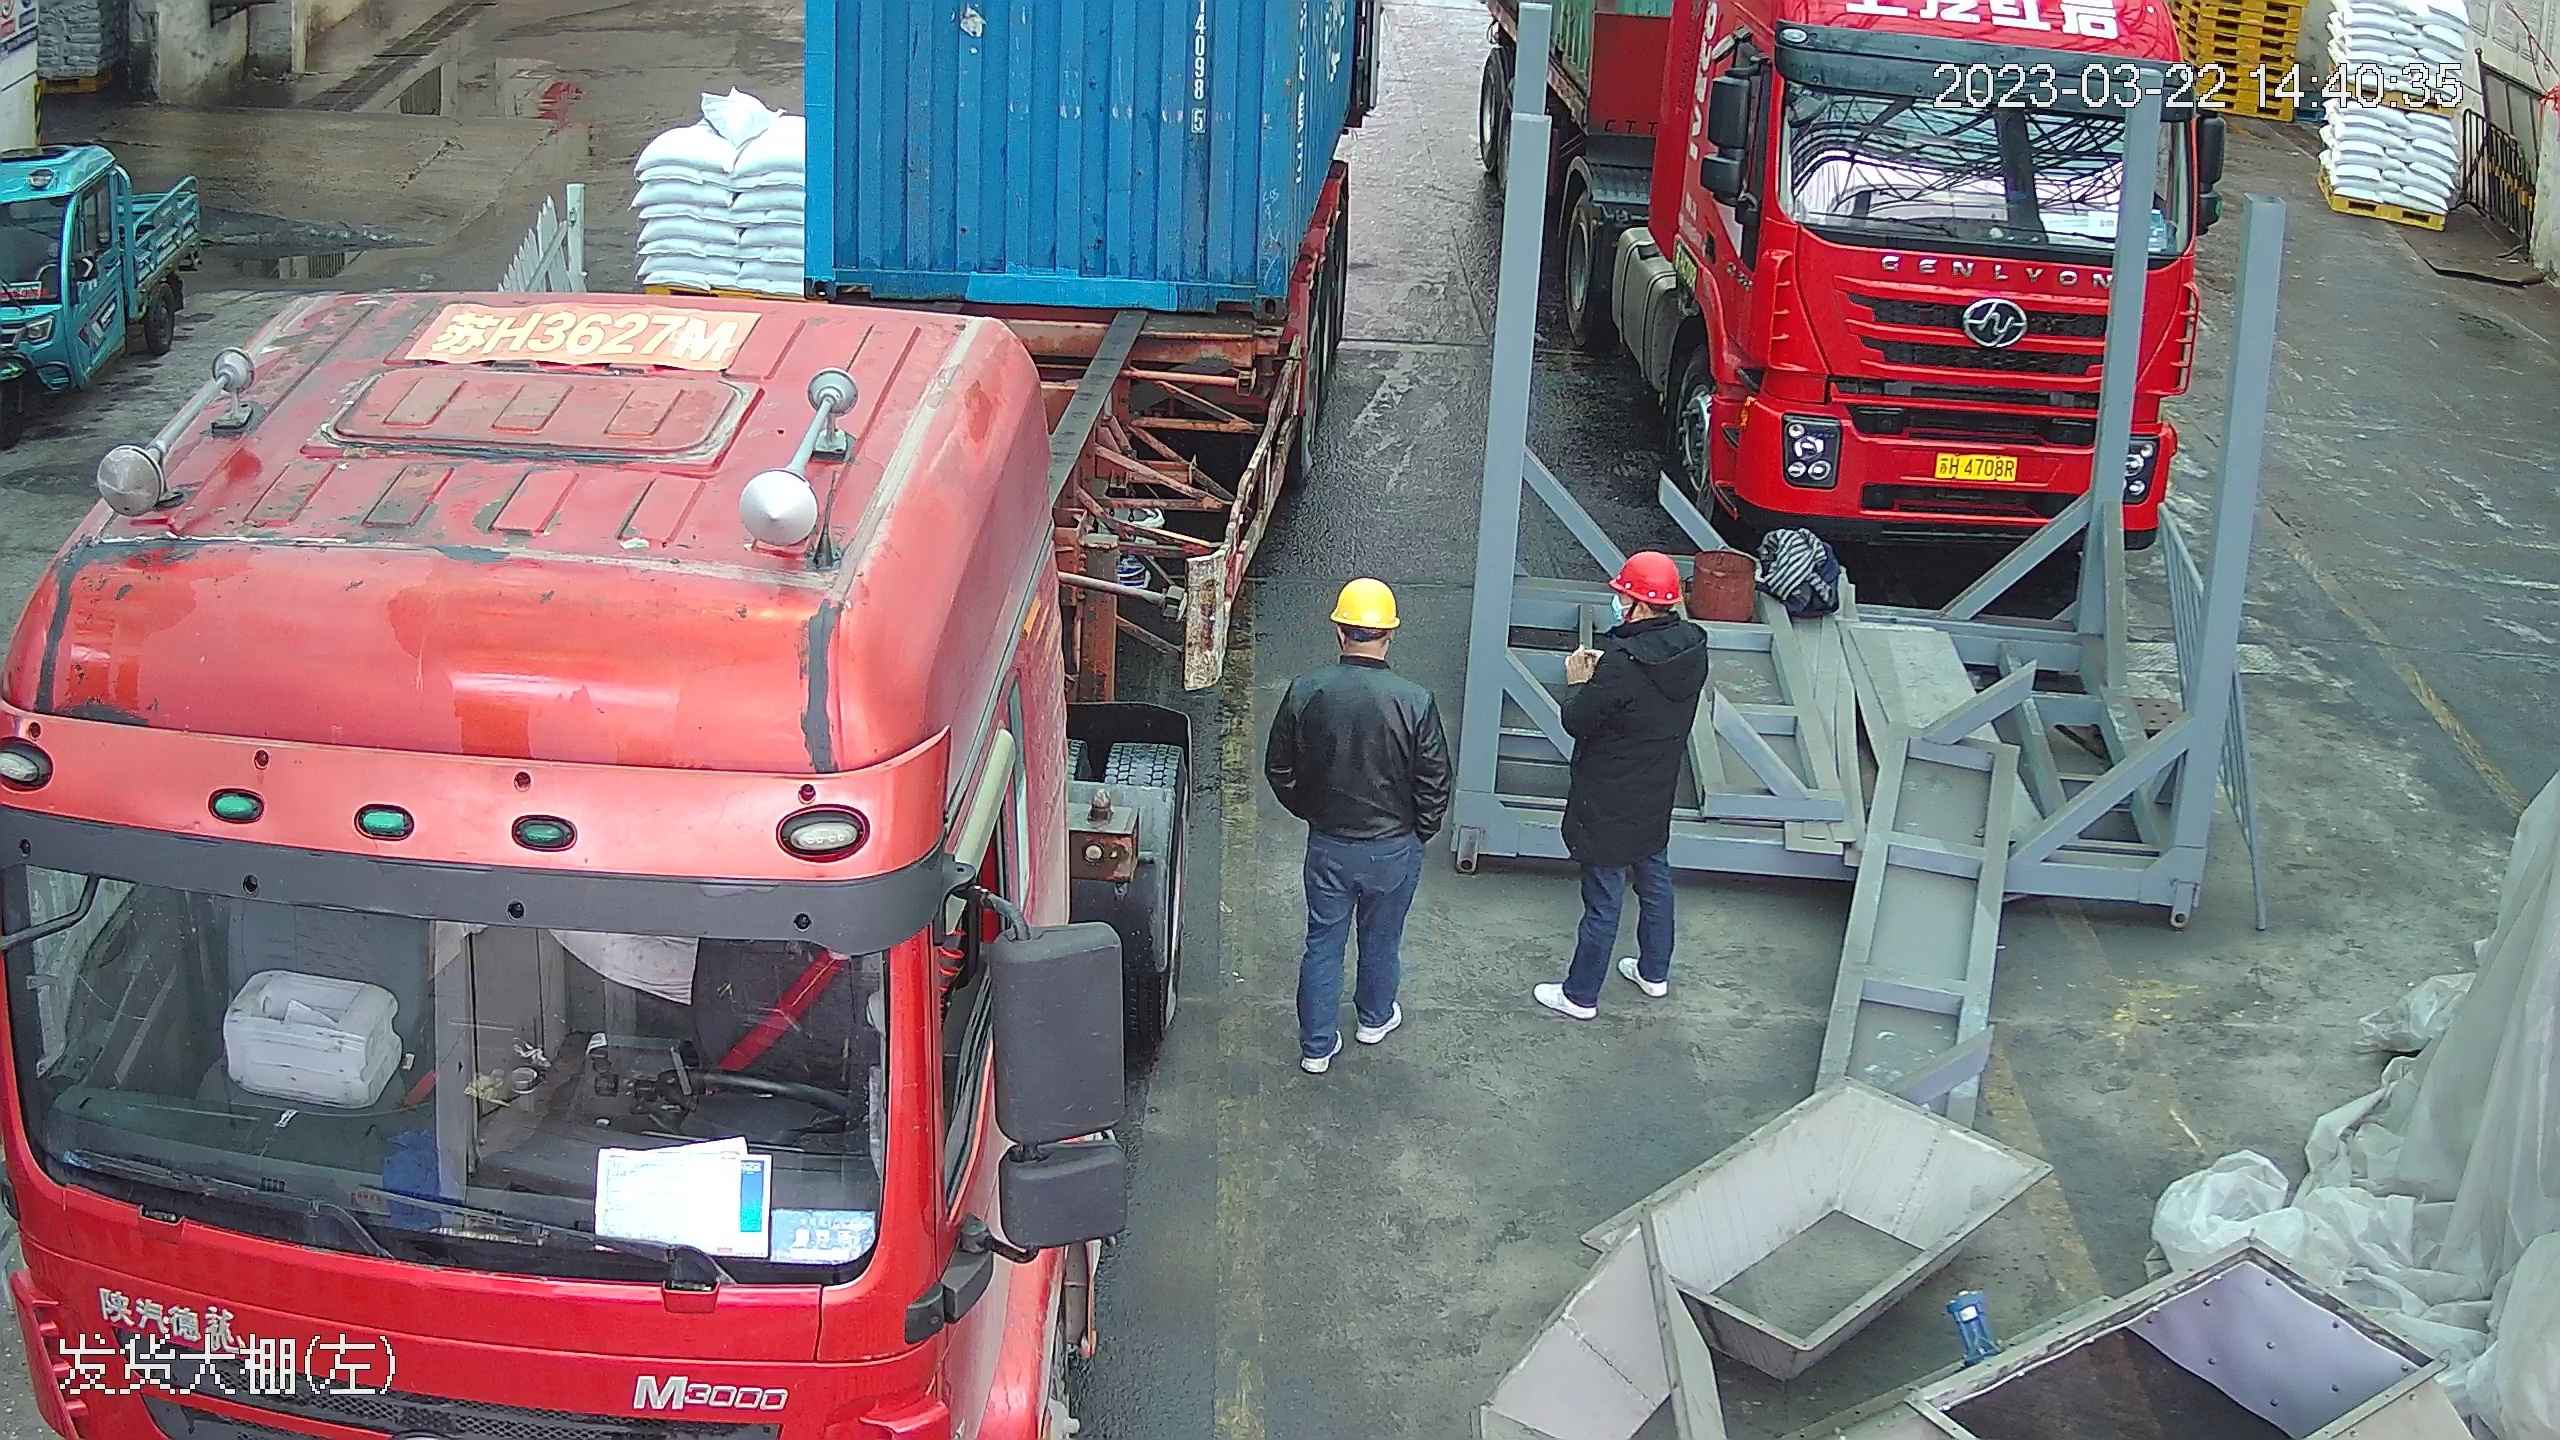head: (1284, 574, 1435, 743), (1572, 546, 1705, 697)
helmet: (1605, 548, 1684, 606), (1328, 574, 1401, 629)
people: (1265, 571, 1451, 1075), (1535, 547, 1708, 1012)
truck: (1, 1, 1331, 1440), (1513, 1, 2218, 572)
